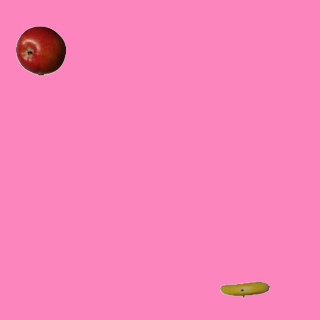Apple Braeburn: (15, 25, 65, 75)
Banana: (219, 264, 269, 314)
